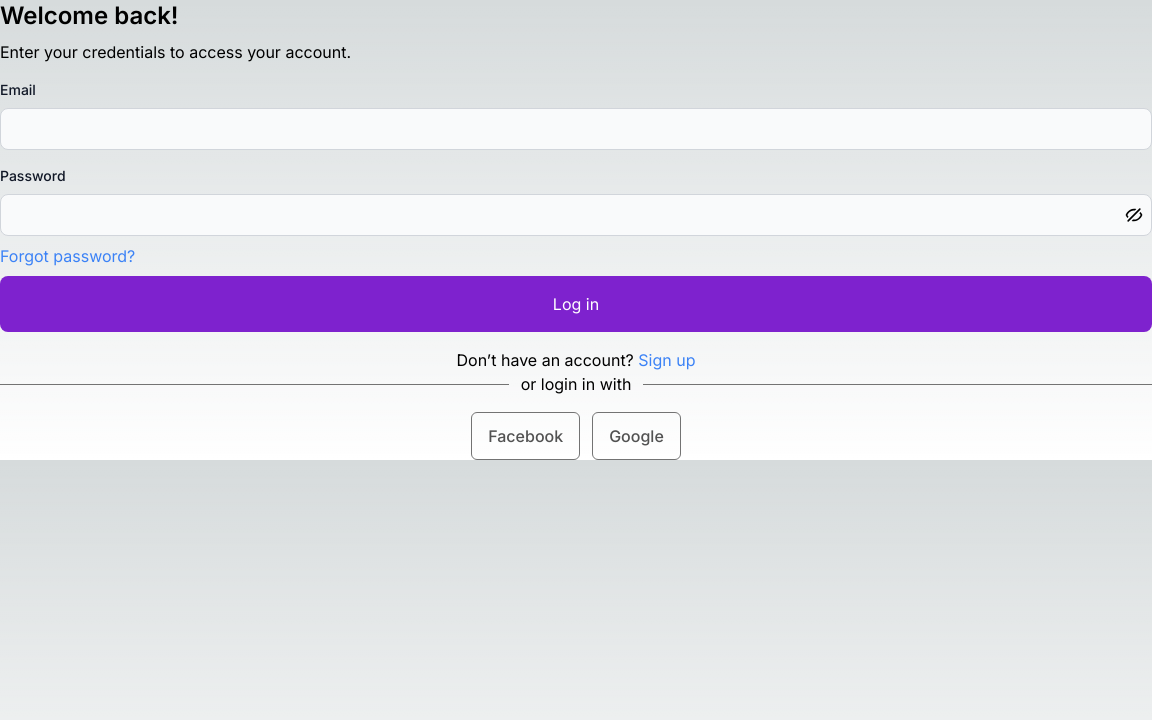
Test: FormLogin component › validates password on submit and shows error message
In the field: {"x": 576, "y": 129} x1=0 y1=108 x2=1151 y2=150, type "test@example.com"
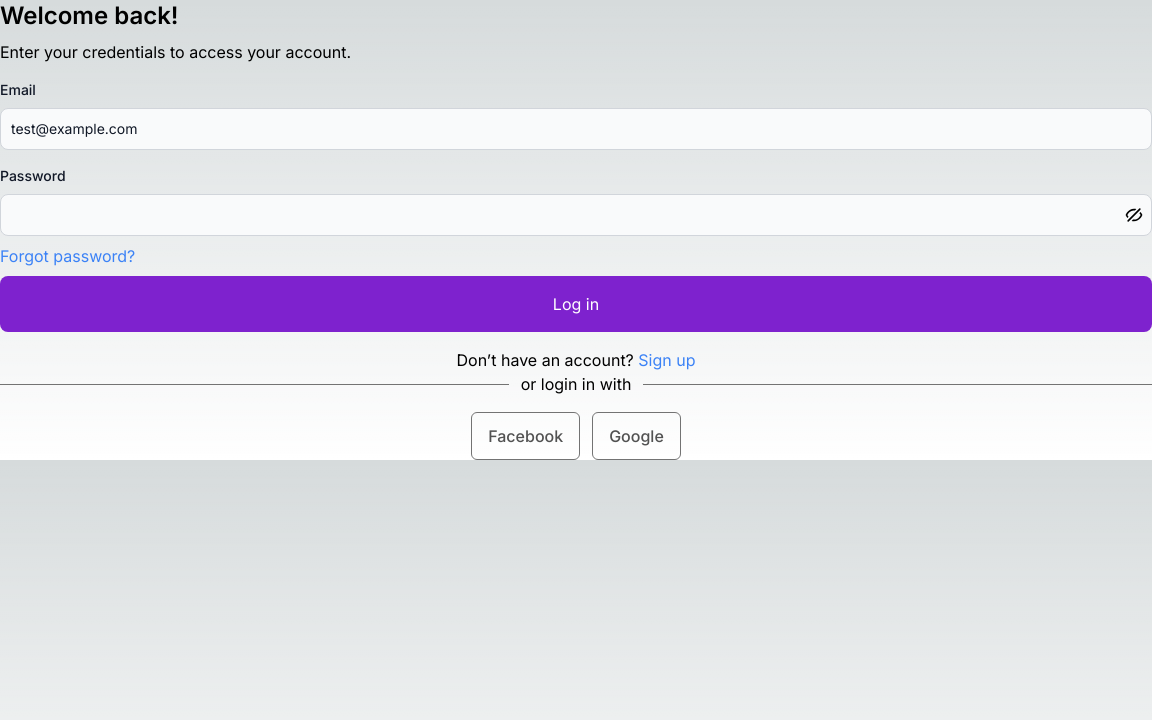
Submit the form from the button "Log in", box x1=0 y1=276 x2=1151 y2=332
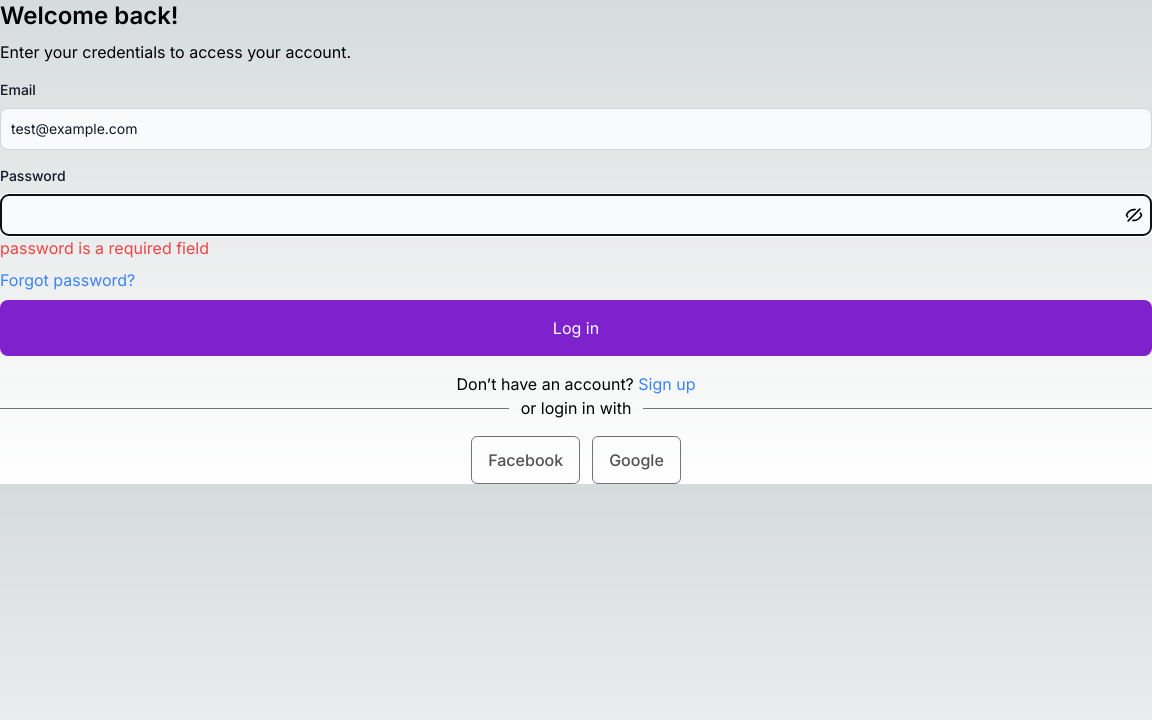
Expected: the text "password is a required field" is shown, x1=0 y1=238 x2=209 y2=258
